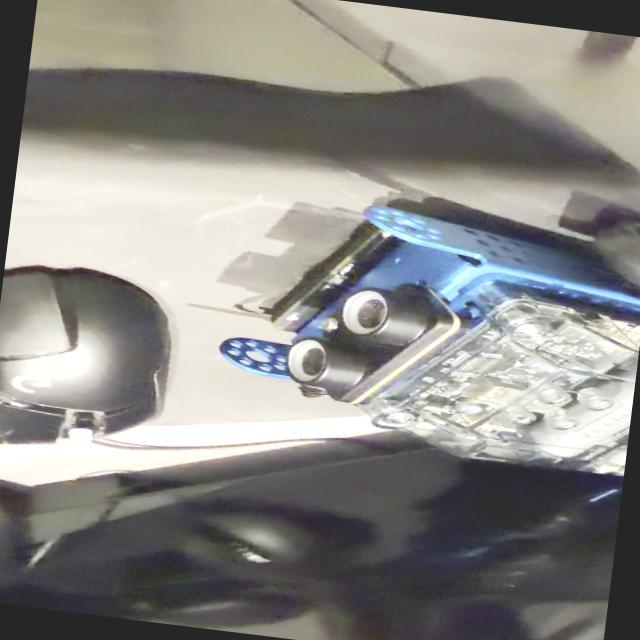mbot-detection: (205, 154, 640, 483)
